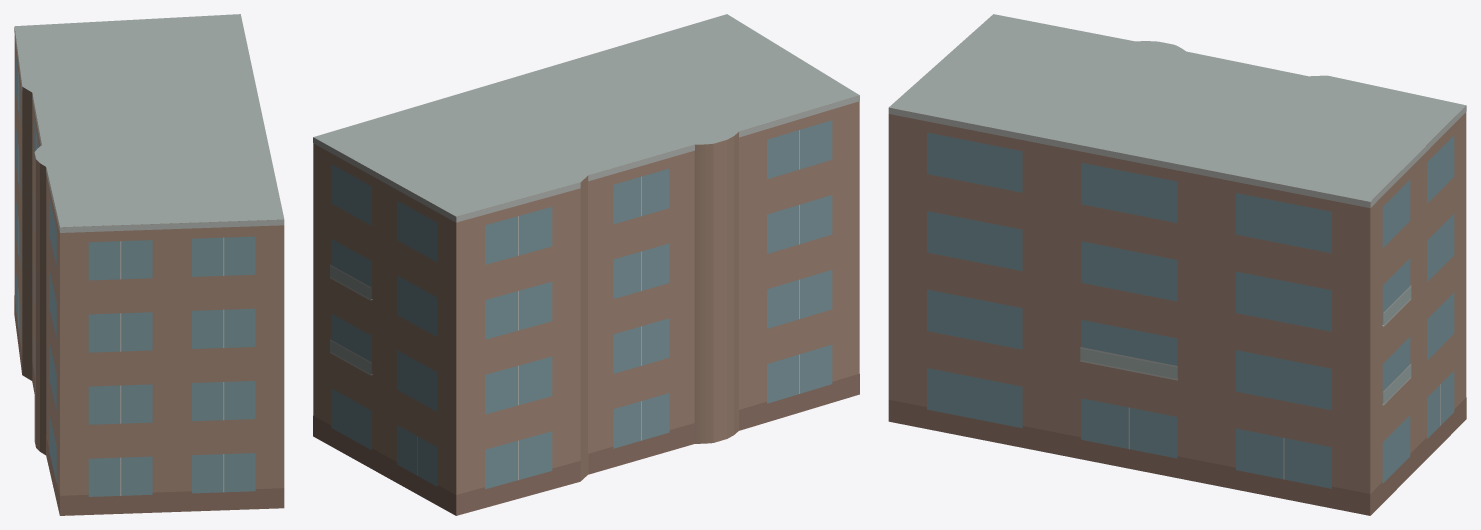
The model's file is survey-upis-32929372.glb.
3 renders of one model, left to right at view 1: azimuth 30°, elevation 25°; view 2: azimuth 150°, elevation 25°; view 3: azimuth 270°, elevation 25°, orthographic. The views are drawn at different scales.
Visible parts, largest first — view 1: survey-upis-32929372.tmp; view 2: survey-upis-32929372.tmp; view 3: survey-upis-32929372.tmp.
Boxes of the visible parts, <box> form: survey-upis-32929372.tmp: <box>14,14,284,515</box>; survey-upis-32929372.tmp: <box>313,14,859,515</box>; survey-upis-32929372.tmp: <box>888,14,1466,515</box>.
Size of the model in its own units: 15.67 by 12.2 by 20.36.
